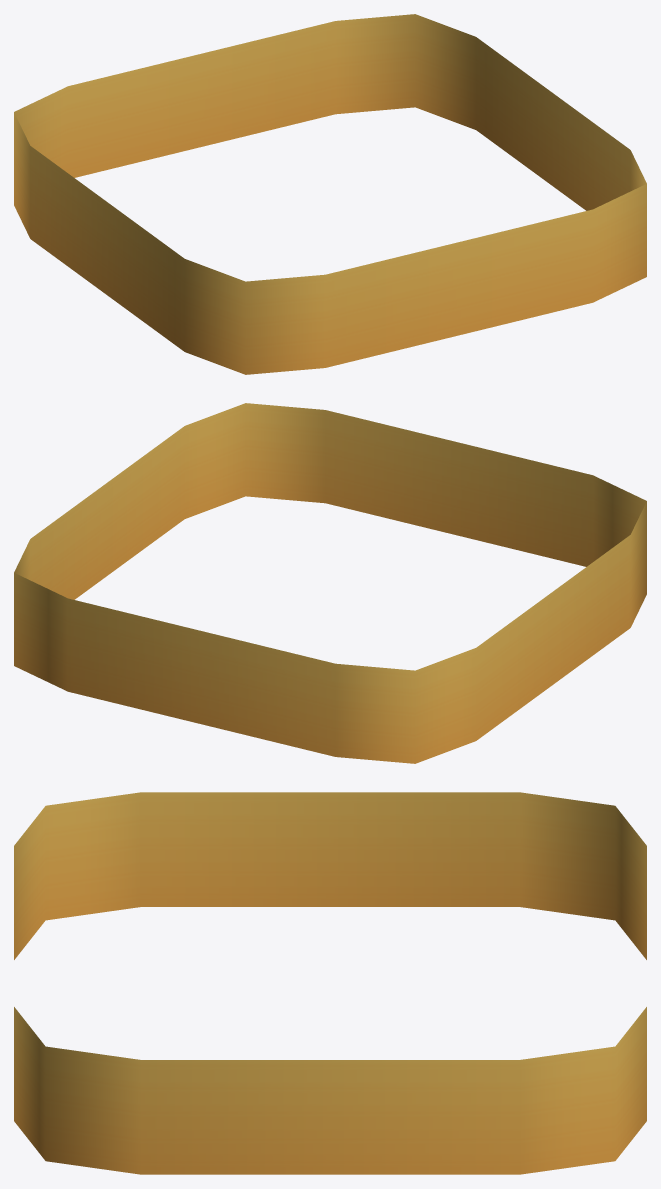
File: indicator-square-f.fbx
3 views of the same model, one above another, from view 1: azimuth 30°, elevation 25°; view 2: azimuth 150°, elevation 25°; view 3: azimuth 270°, elevation 25° (orthographic). The views are drawn at different scales.
Visible parts, largest first — view 1: indicator-square-f; view 2: indicator-square-f; view 3: indicator-square-f.
Boxes of the visible parts, x1,y1,x2,y2 form: indicator-square-f: (14,14,646,374); indicator-square-f: (14,403,646,763); indicator-square-f: (14,792,646,1174).
Size of the model in its own units: 100 by 20 by 100.
